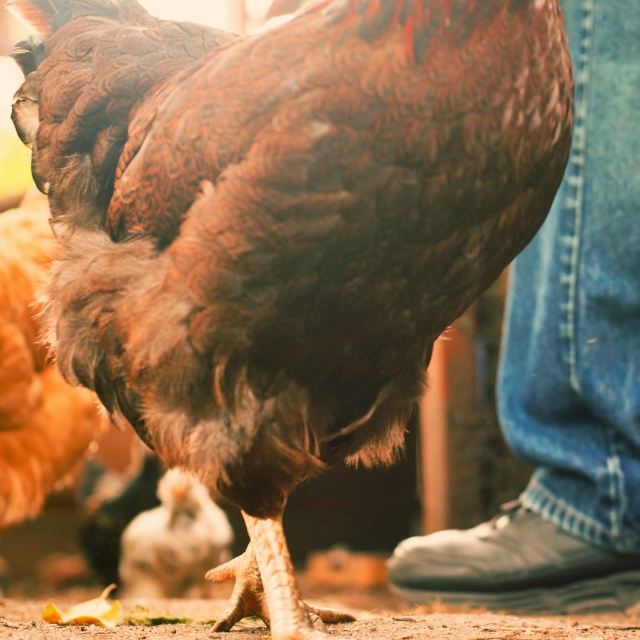Chicken: (0, 0, 580, 640)
